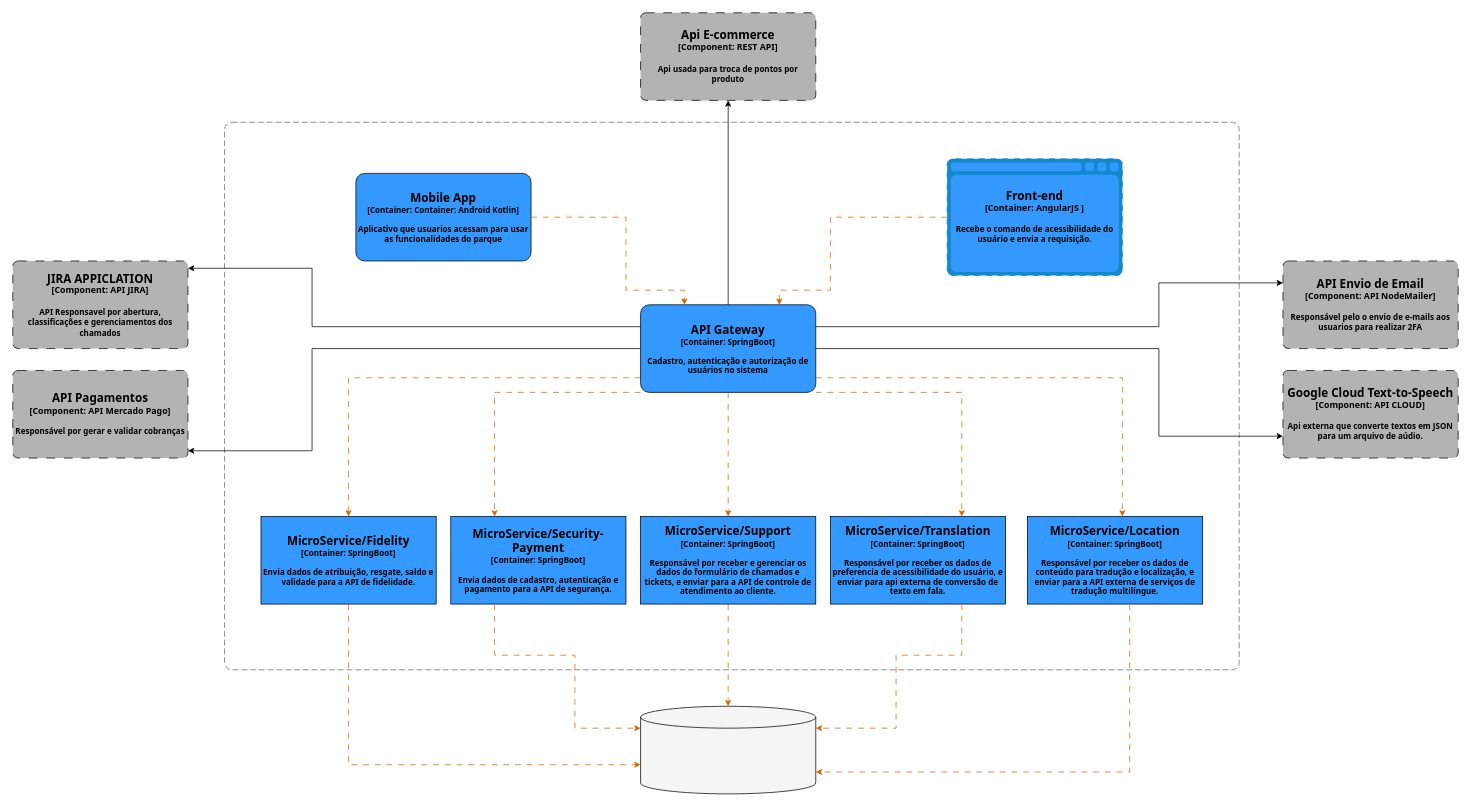
The diagram is 1471 pixels wide and 807 high, and some of its shapes have lost their labels. Here are the shapes that lost their labels. From the top down, the box of each, then its label:
(224, 122, 1239, 670): Water Park [Software System]
(640, 706, 816, 794): Banco de Dados [Container: MySQL] Armazena os dados dos clientes e chamados
